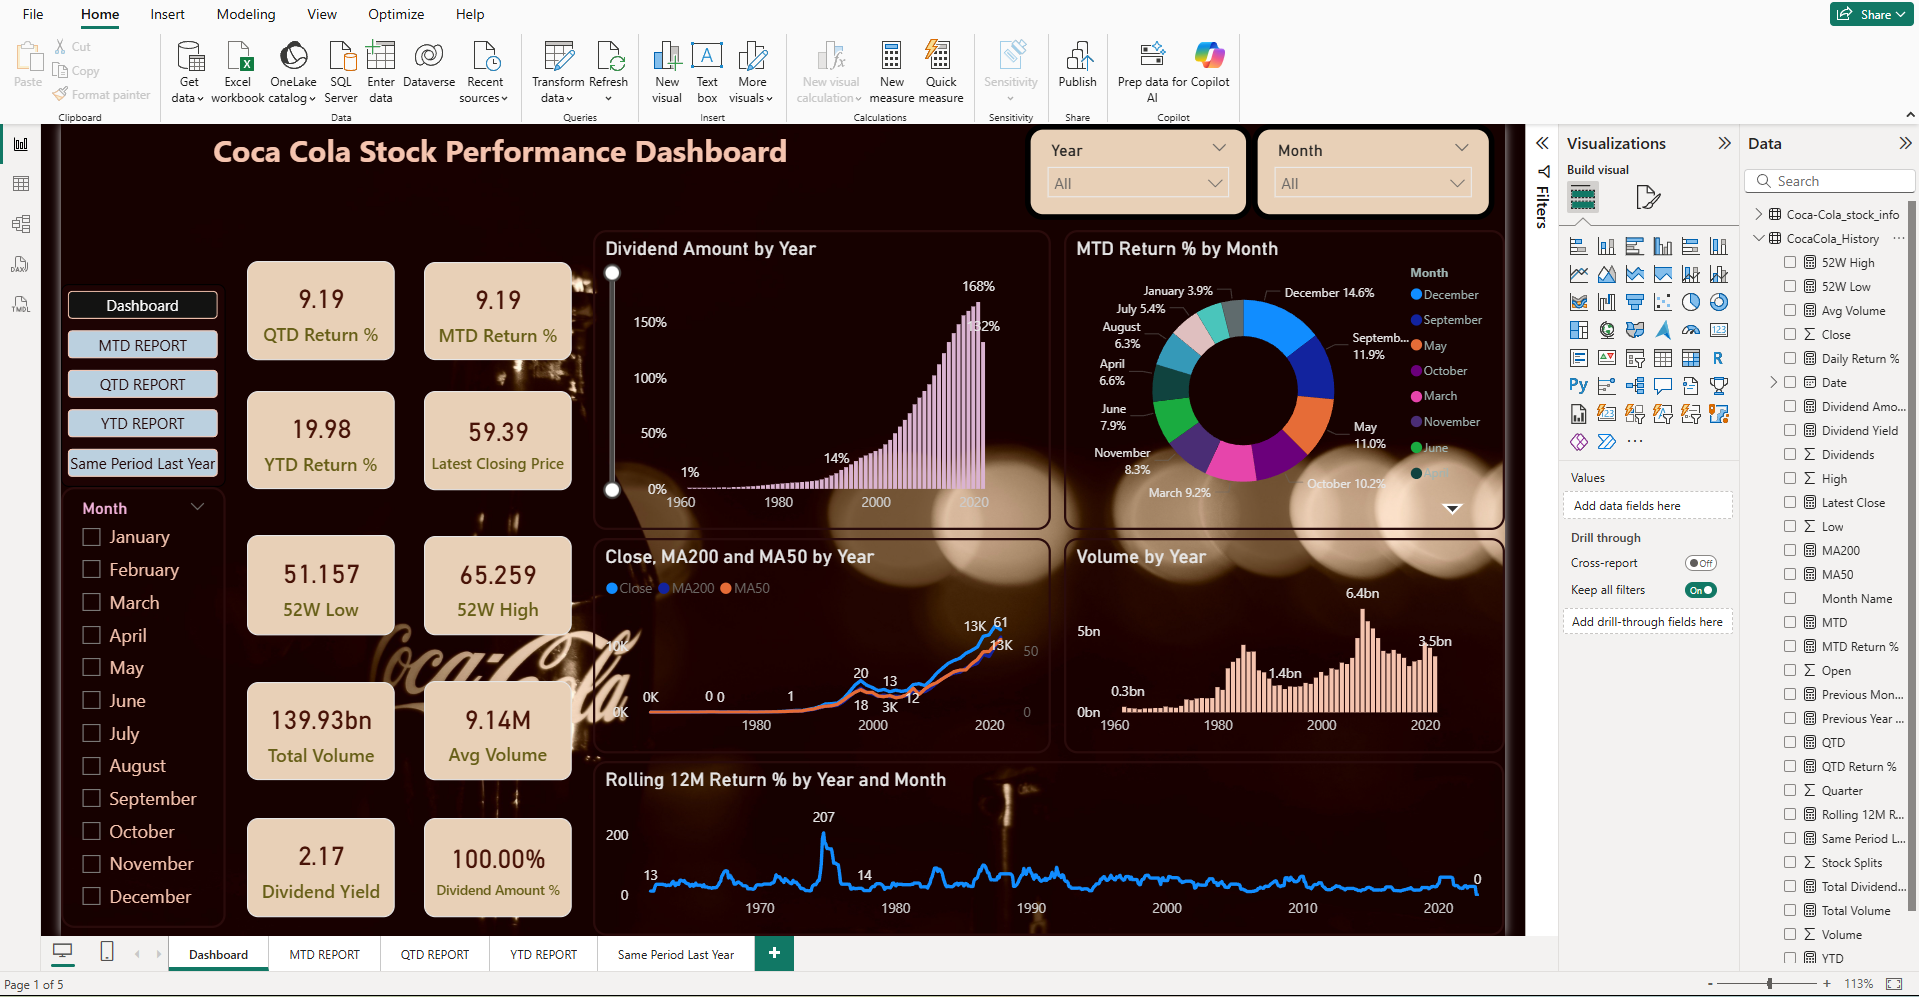

Layout of this report page (visuals, bound fields, positions):
{"tool":"powerbi","page":{"name":"Dashboard","canvas":[1280,720],"ordinal":0},"visuals":[{"type":"textbox","box":[0,0,779.3,60.1],"z":0},{"type":"card","fields":{"Values":["CocaCola_History.Latest Close"]},"box":[321.9,236.3,131,88],"z":1000},{"type":"slicer","fields":{"Values":["CocaCola_History.Date.Variation.Date Hierarchy.Year"]},"box":[855,0,201.3,84.6],"z":2000},{"type":"slicer","fields":{"Values":["CocaCola_History.Date.Variation.Date Hierarchy.Month"]},"box":[1056.3,0,215,84.6],"z":3000},{"type":"card","fields":{"Values":["CocaCola_History.YTD Return %"]},"box":[164.7,237.1,131.2,86.9],"z":4000},{"type":"card","fields":{"Values":["CocaCola_History.Avg Volume"]},"box":[321.9,494.3,131,88],"z":5000},{"type":"card","fields":{"Values":["CocaCola_History.Dividend Yield"]},"box":[164.7,615.7,131.2,87.8],"z":6000},{"type":"card","fields":{"Values":["CocaCola_History.52W High"]},"box":[321.9,365.3,131,88],"z":7000},{"type":"card","fields":{"Values":["CocaCola_History.52W Low"]},"box":[164.9,364.3,131,89],"z":8000},{"type":"columnChart","fields":{"Y":["Sum(CocaCola_History.Volume)"],"Category":["CocaCola_History.Date.Variation.Date Hierarchy.Year"]},"box":[889,366.7,391,190.6],"z":9000},{"type":"lineChart","fields":{"Y":["Sum(CocaCola_History.Close)"],"Y2":["CocaCola_History.MA200","CocaCola_History.MA50"],"Category":["CocaCola_History.Date.Variation.Date Hierarchy.Year"]},"box":[471.7,366.7,405.6,190.6],"z":10000},{"type":"card","fields":{"Values":["CocaCola_History.MTD Return %"]},"box":[321.6,122.7,131.2,86.9],"z":11000},{"type":"lineChart","fields":{"Y":["CocaCola_History.Rolling 12M Return %"],"Category":["CocaCola_History.Date.Variation.Date Hierarchy.Year","CocaCola_History.Date.Variation.Date Hierarchy.Month","CocaCola_History.Date.Variation.Date Hierarchy.Day"]},"box":[471.7,565.1,808.3,154.7],"z":12000},{"type":"columnChart","fields":{"Category":["CocaCola_History.Date.Variation.Date Hierarchy.Year"],"Y":["CocaCola_History.Total Dividend Amount"]},"box":[471.7,94.3,405.6,265.5],"z":13000},{"type":"donutChart","fields":{"Category":["CocaCola_History.Month Name"],"Y":["CocaCola_History.MTD Return %"]},"box":[889.4,94,391,266],"z":14000},{"type":"slicer","fields":{"Values":["CocaCola_History.Date.Variation.Date Hierarchy.Month"]},"box":[0,321.9,145.9,391],"z":15000},{"type":"card","fields":{"Values":["CocaCola_History.QTD Return %"]},"box":[164.7,121.9,131.2,87.8],"z":16000},{"type":"card","fields":{"Values":["CocaCola_History.Total Volume"]},"box":[164.7,495.2,131.2,86.9],"z":18000},{"type":"card","fields":{"Values":["CocaCola_History.Dividend Amount %"]},"box":[321.6,615.7,131.2,87.8],"z":19000},{"type":"pageNavigator","box":[0,142,145.9,179.9],"z":20000}]}

Visuals, with their boxes on the page's 1280x720 design canvas (x1, y1, x2, y2). These are canvas units, not pixel positions in the 1919x997 screenshot, which may show the page scaled, cropped or inside an application window:
textbox: left=0, top=0, right=779, bottom=60
card - CocaCola_History.Latest Close: left=322, top=236, right=453, bottom=324
slicer - CocaCola_History.Date.Variation.Date Hierarchy.Year: left=855, top=0, right=1056, bottom=85
slicer - CocaCola_History.Date.Variation.Date Hierarchy.Month: left=1056, top=0, right=1271, bottom=85
card - CocaCola_History.YTD Return %: left=165, top=237, right=296, bottom=324
card - CocaCola_History.Avg Volume: left=322, top=494, right=453, bottom=582
card - CocaCola_History.Dividend Yield: left=165, top=616, right=296, bottom=704
card - CocaCola_History.52W High: left=322, top=365, right=453, bottom=453
card - CocaCola_History.52W Low: left=165, top=364, right=296, bottom=453
columnChart - Sum(CocaCola_History.Volume) x CocaCola_History.Date.Variation.Date Hierarchy.Year: left=889, top=367, right=1280, bottom=557
lineChart - Sum(CocaCola_History.Close) x CocaCola_History.MA200: left=472, top=367, right=877, bottom=557
card - CocaCola_History.MTD Return %: left=322, top=123, right=453, bottom=210
lineChart - CocaCola_History.Rolling 12M Return % x CocaCola_History.Date.Variation.Date Hierarchy.Year: left=472, top=565, right=1280, bottom=720
columnChart - CocaCola_History.Date.Variation.Date Hierarchy.Year x CocaCola_History.Total Dividend Amount: left=472, top=94, right=877, bottom=360
donutChart - CocaCola_History.Month Name x CocaCola_History.MTD Return %: left=889, top=94, right=1280, bottom=360
slicer - CocaCola_History.Date.Variation.Date Hierarchy.Month: left=0, top=322, right=146, bottom=713
card - CocaCola_History.QTD Return %: left=165, top=122, right=296, bottom=210
card - CocaCola_History.Total Volume: left=165, top=495, right=296, bottom=582
card - CocaCola_History.Dividend Amount %: left=322, top=616, right=453, bottom=704
pageNavigator: left=0, top=142, right=146, bottom=322
